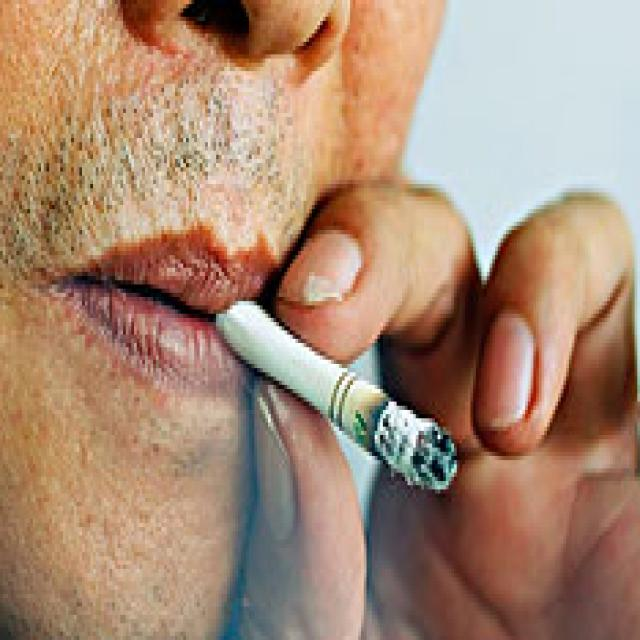smoking: (216, 294, 458, 492)
